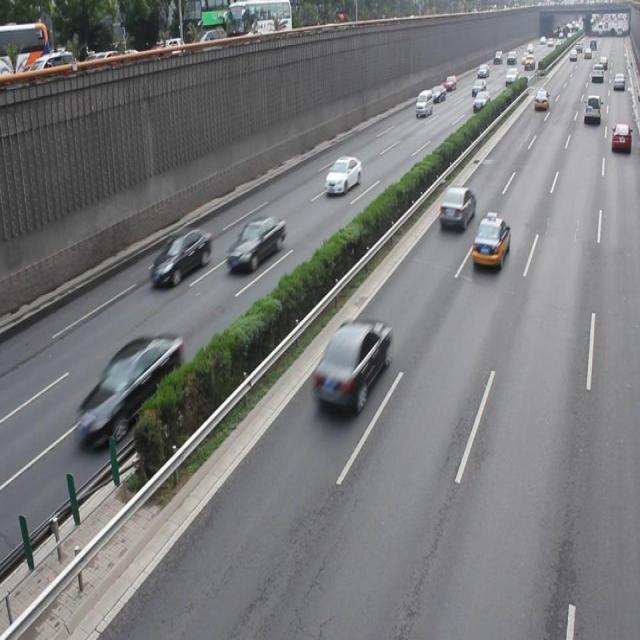car: (73, 330, 182, 449), (309, 316, 392, 416), (149, 226, 212, 290), (224, 215, 286, 272), (470, 215, 509, 271), (438, 185, 475, 230), (323, 155, 362, 195)
